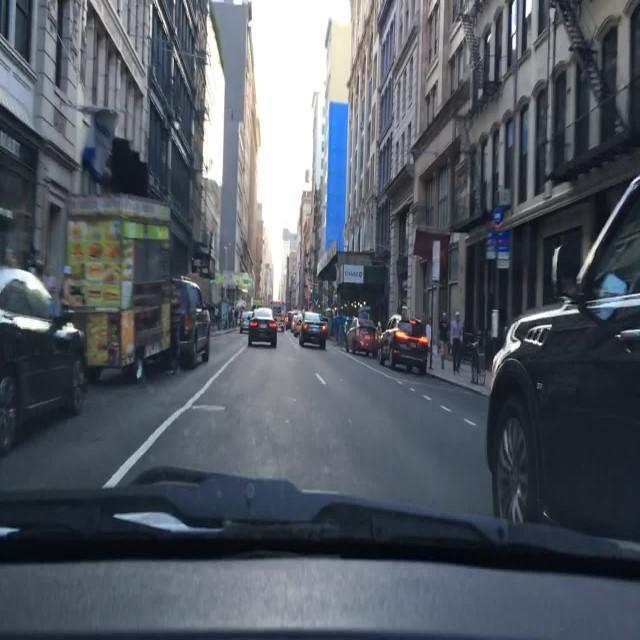normal: (225, 259, 460, 406)
